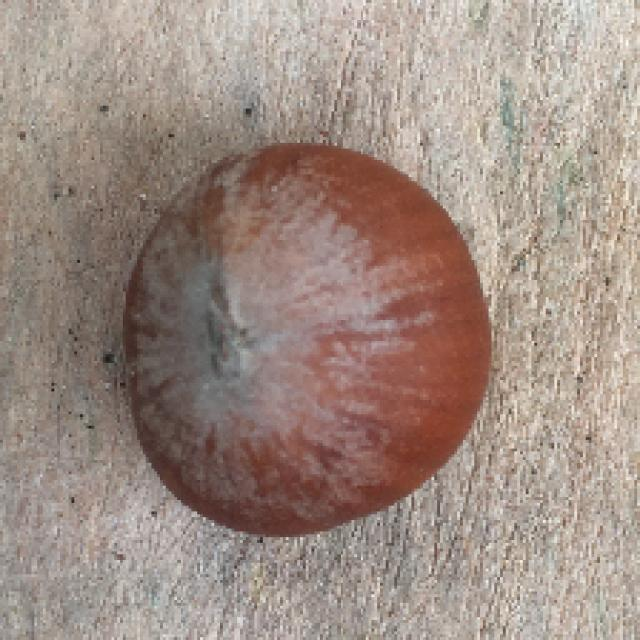QualityHazelnut: (127, 140, 492, 539)
